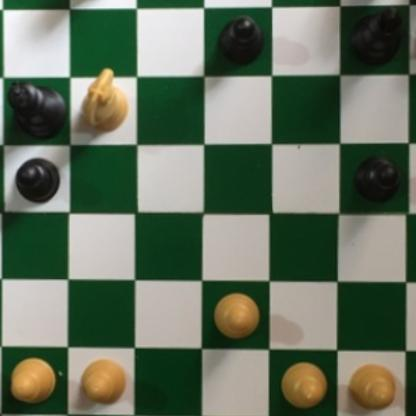black-bishop: (345, 3, 406, 66)
black-king: (4, 77, 66, 138)
black-pawn: (218, 14, 264, 70), (14, 155, 62, 207), (353, 155, 401, 204), (414, 3, 416, 55)
white-knight: (78, 60, 129, 137)
white-pawn: (8, 353, 60, 409), (346, 358, 397, 413), (212, 290, 261, 343), (279, 360, 328, 409), (78, 360, 126, 408)
